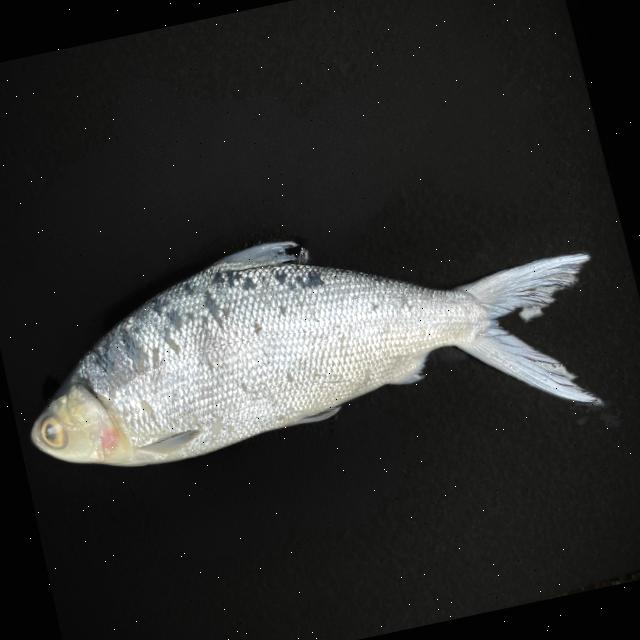680 g: (0, 175, 620, 518)
